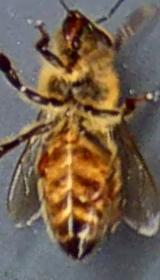varroa_mite: (30, 145, 60, 175)
